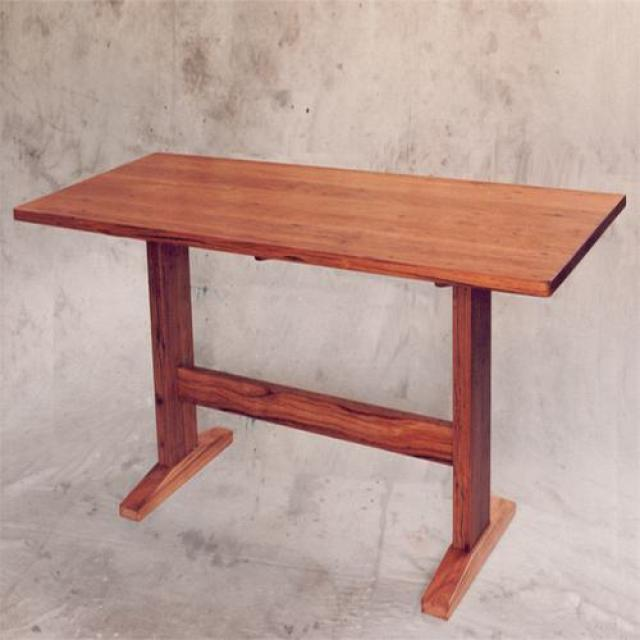table: (13, 152, 628, 621)
